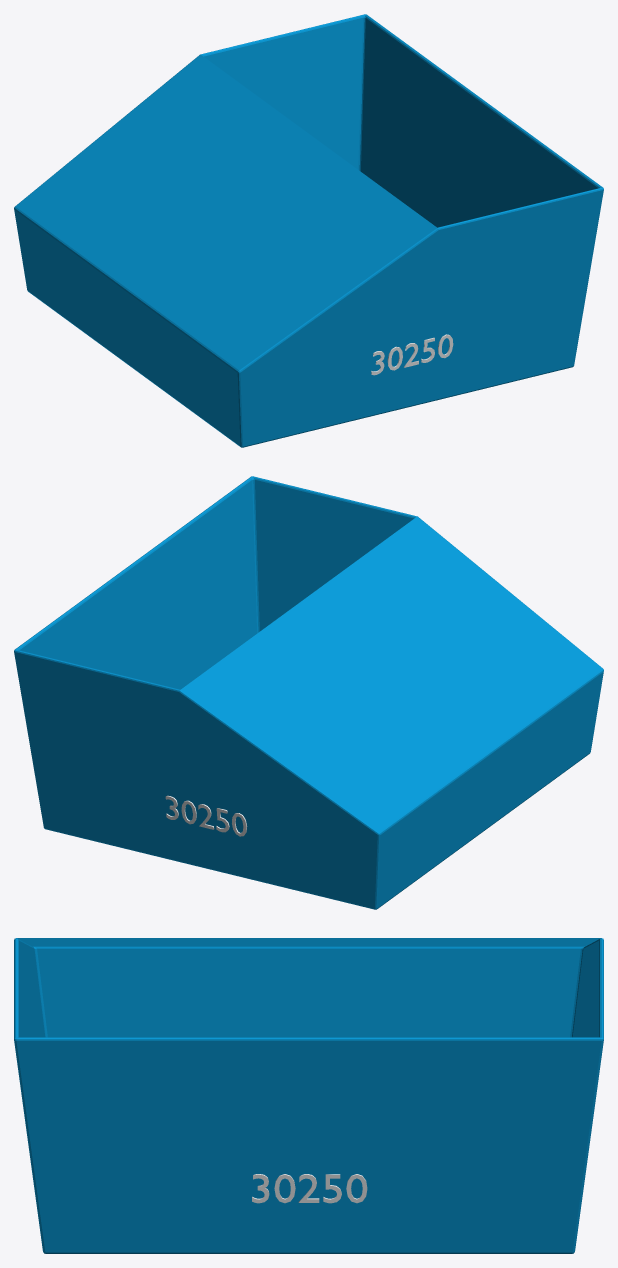
3 views of the same model, one above another, from view 1: azimuth 30°, elevation 25°; view 2: azimuth 150°, elevation 25°; view 3: azimuth 270°, elevation 25° (orthographic). The views are drawn at different scales.
Visible parts, largest first — view 1: us-picking-bin-30250; view 2: us-picking-bin-30250; view 3: us-picking-bin-30250.
Part boxes in pixels (<box>): us-picking-bin-30250: <box>14,14,603,447</box>; us-picking-bin-30250: <box>14,476,603,909</box>; us-picking-bin-30250: <box>14,938,603,1253</box>.
Bounding box in the file's own units: 0.3643 × 0.178 × 0.4186.
